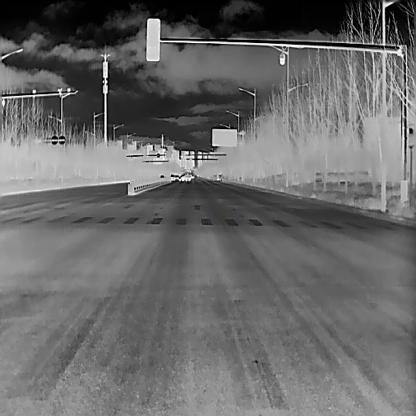car: (177, 172, 190, 182)
